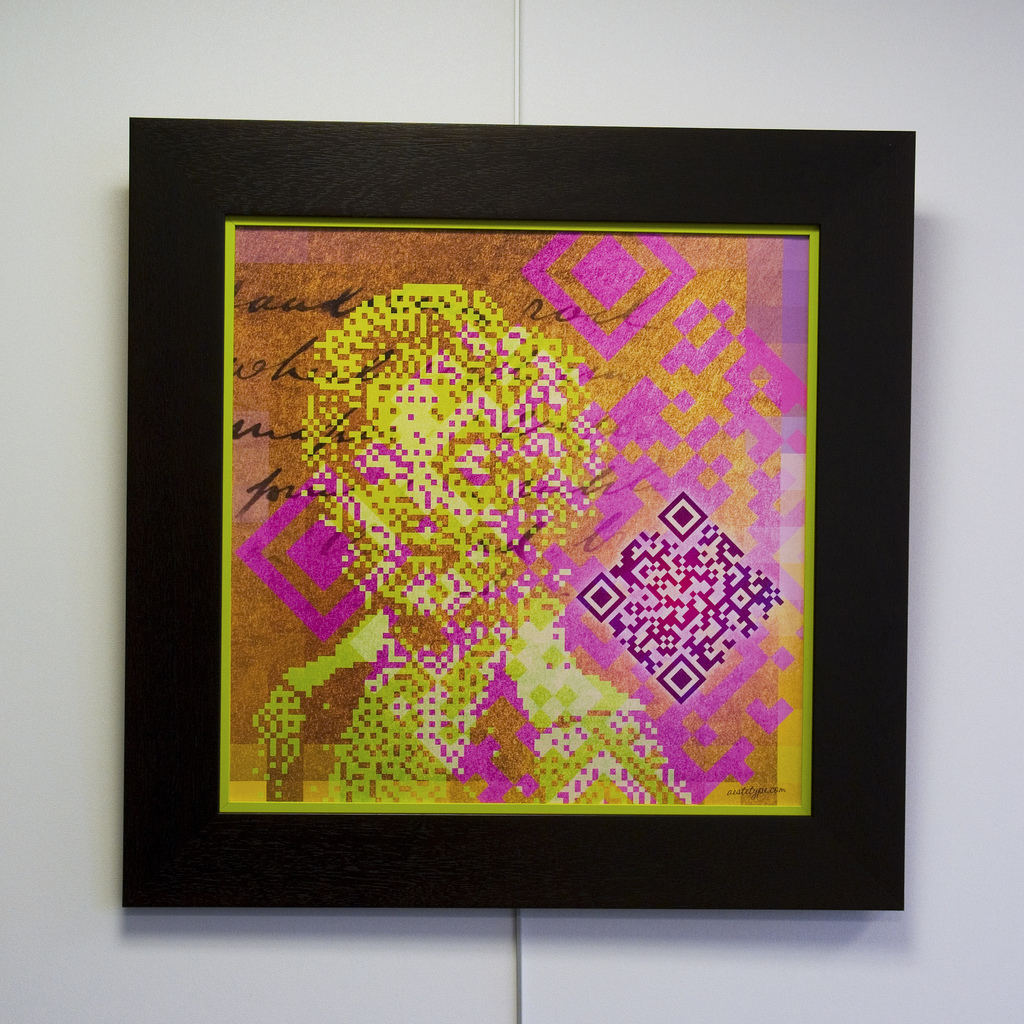QR-CODE: (575, 491, 788, 704)
